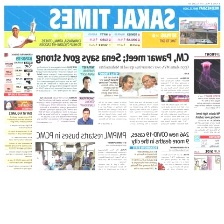news_paper: (1, 3, 222, 171)
